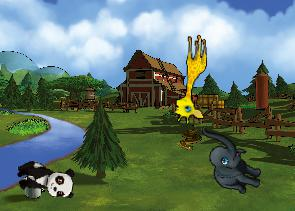elephant: (189, 126, 270, 197)
giraffe: (173, 33, 207, 124)
panda: (13, 159, 77, 200)
